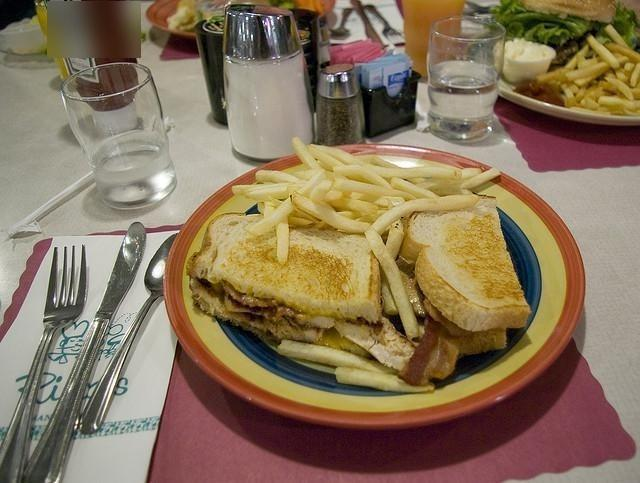glass-normal: (60, 59, 177, 209), (425, 12, 505, 144)
